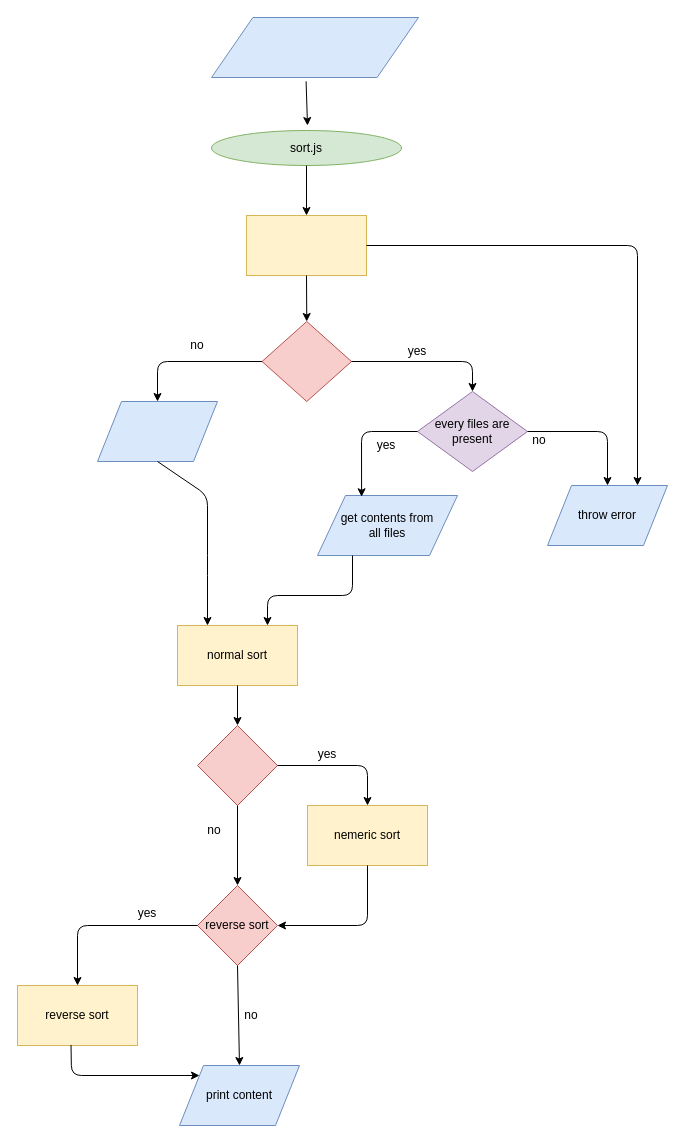
Some shapes in this 685 by 1143 pixel diagram are drawn without their labels. The shapes that lost their labels are listed below. From the top down, each one's centre as x and y in pixels, then its label:
At point (314, 47): "command line arguments".
At point (306, 245): "parse argumnets".
At point (306, 361): "files given".
At point (157, 431): "take inputs from stdin".
At point (237, 765): "numric sort".
